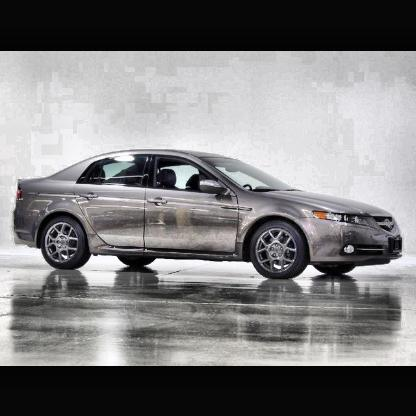Acura TL Type-S 2008: (13, 148, 404, 281)
